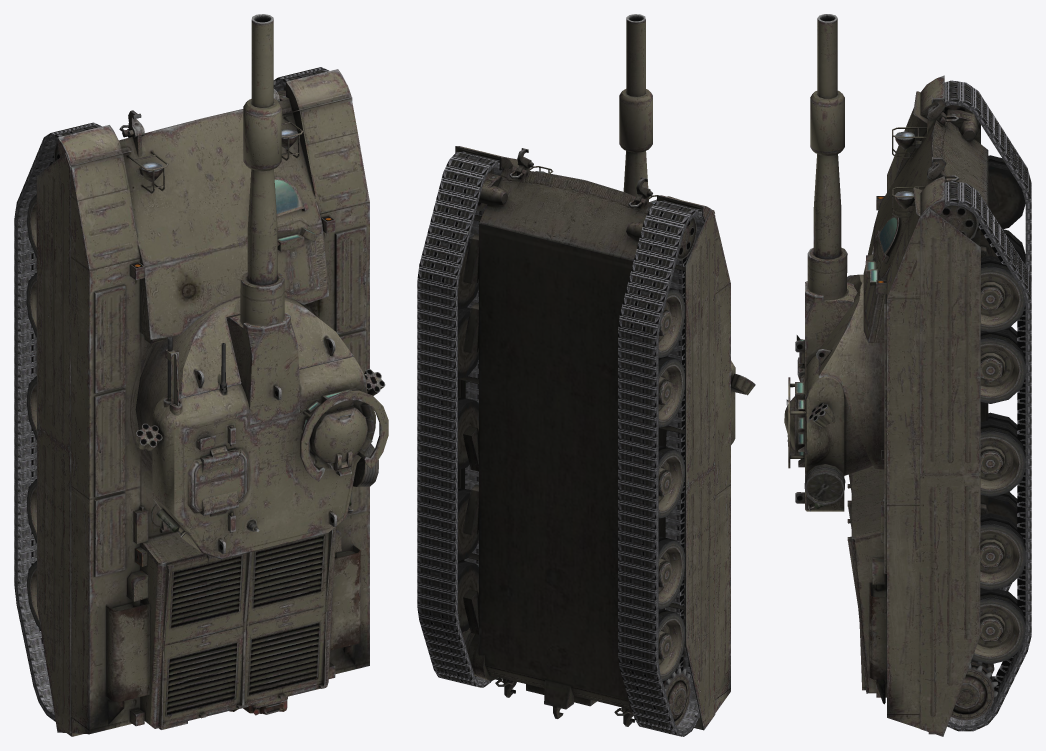
3 renders of one model, left to right at view 1: azimuth 30°, elevation 25°; view 2: azimuth 150°, elevation 25°; view 3: azimuth 270°, elevation 25°, orthographic. The views are drawn at different scales.
Parts seen in each view (by area): view 1: hull, gun_01_mask, chassis_track_L, turret_01, gun_01; view 2: hull, chassis_track_L, chassis_track_R, gun_01, chassis_wheel_L_05, chassis_wheel_L_03, chassis_wheel_L_04, chassis_wheel_L_06, chassis_wheel_L_02, chassis_wheel_L_07, chassis_wheel_R_04, chassis_wheel_R_06 (+4 smaller); view 3: hull, gun_01_mask, chassis_track_R, gun_01, turret_01, chassis_track_L, chassis_wheel_R_06, chassis_wheel_R_05, chassis_wheel_R_04, chassis_wheel_R_03, chassis_wheel_R_02, chassis_wheel_R_07 (+3 smaller).
Boxes of the visible parts, <box> form: hull: <box>36,69,369,736</box>; gun_01_mask: <box>135,272,388,559</box>; chassis_track_L: <box>14,122,101,721</box>; turret_01: <box>135,297,353,460</box>; gun_01: <box>243,14,281,285</box>; hull: <box>455,146,730,730</box>; chassis_track_L: <box>618,200,704,736</box>; chassis_track_R: <box>417,151,502,687</box>; gun_01: <box>619,14,652,201</box>; chassis_wheel_L_05: <box>658,536,685,609</box>; chassis_wheel_L_03: <box>658,356,684,427</box>; chassis_wheel_L_04: <box>658,445,684,518</box>; chassis_wheel_L_06: <box>658,609,685,680</box>; chassis_wheel_L_02: <box>658,288,684,358</box>; chassis_wheel_L_07: <box>662,668,690,725</box>; chassis_wheel_R_04: <box>458,396,478,469</box>; chassis_wheel_R_06: <box>458,560,478,631</box>; hull: <box>847,75,998,736</box>; gun_01_mask: <box>784,247,872,511</box>; chassis_track_R: <box>944,181,1031,731</box>; gun_01: <box>810,14,844,258</box>; turret_01: <box>816,274,884,469</box>; chassis_track_L: <box>944,80,1031,591</box>; chassis_wheel_R_06: <box>972,589,1025,664</box>; chassis_wheel_R_05: <box>980,513,1025,590</box>; chassis_wheel_R_04: <box>980,420,1025,496</box>; chassis_wheel_R_03: <box>980,329,1025,403</box>; chassis_wheel_R_02: <box>980,255,1025,332</box>; chassis_wheel_R_07: <box>951,661,998,720</box>.
Bounding box in the file's own units: 2.93 × 7.24 × 2.46.
Materials: 2 (2 with a texture image).
